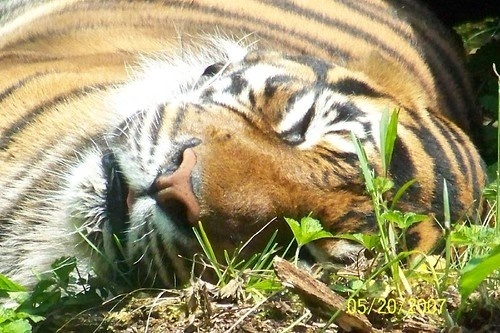tigre: (1, 1, 486, 281)
